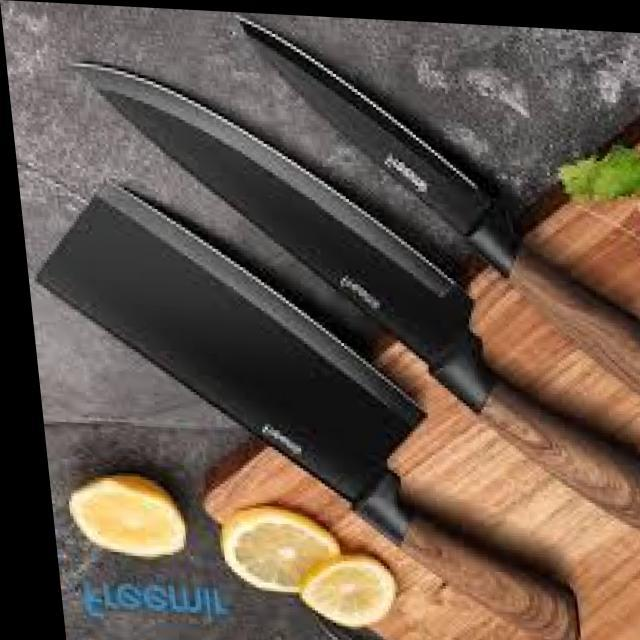knife: (66, 58, 640, 527), (34, 175, 584, 640), (236, 12, 640, 397)
